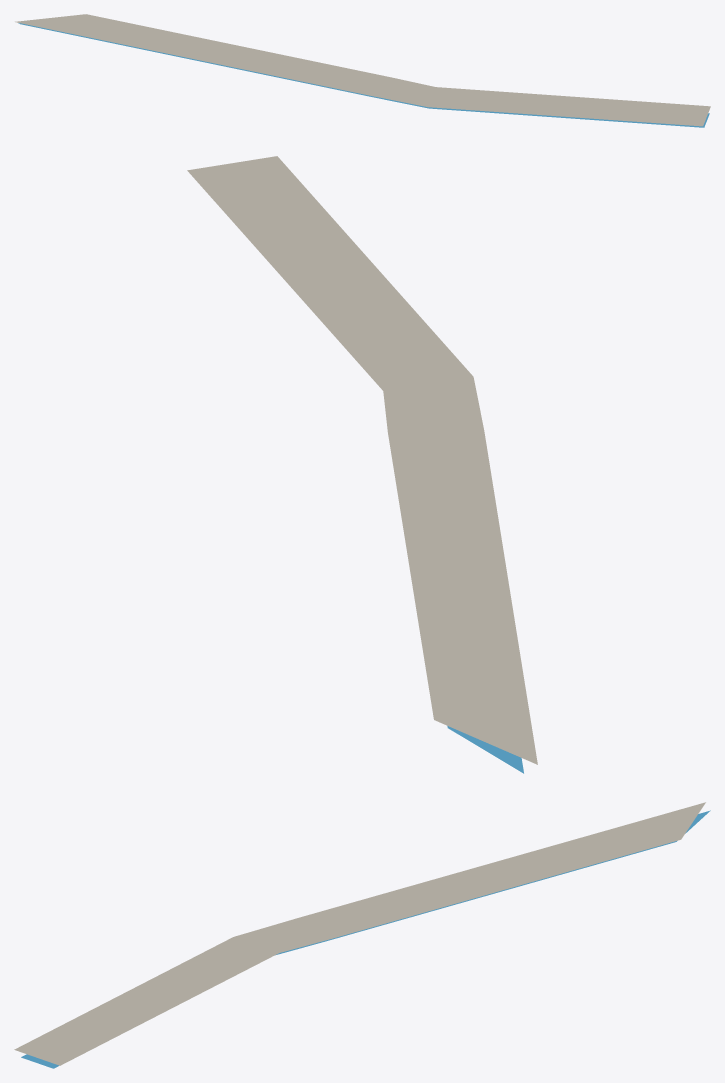
3 renders of one model, top to bottom at view 1: azimuth 30°, elevation 25°; view 2: azimuth 150°, elevation 25°; view 3: azimuth 270°, elevation 25°, orthographic. The views are drawn at different scales.
Visible parts, largest first — view 1: estructura_terreno, estructura_agua; view 2: estructura_terreno; view 3: estructura_terreno, estructura_agua.
Part boxes in pixels (x1,y1,x2,y2): estructura_terreno: (15,14,710,126); estructura_agua: (18,23,709,127); estructura_terreno: (187,156,537,764); estructura_terreno: (14,802,705,1065); estructura_agua: (21,810,710,1068).
Bounding box in the file's own units: 43.83 × 0.41 × 48.96.
